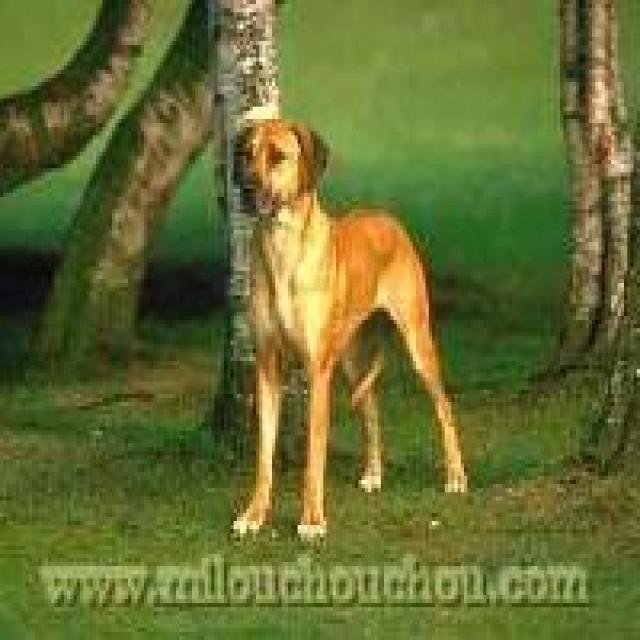rhodesian_ridgeback: (224, 115, 477, 550)
